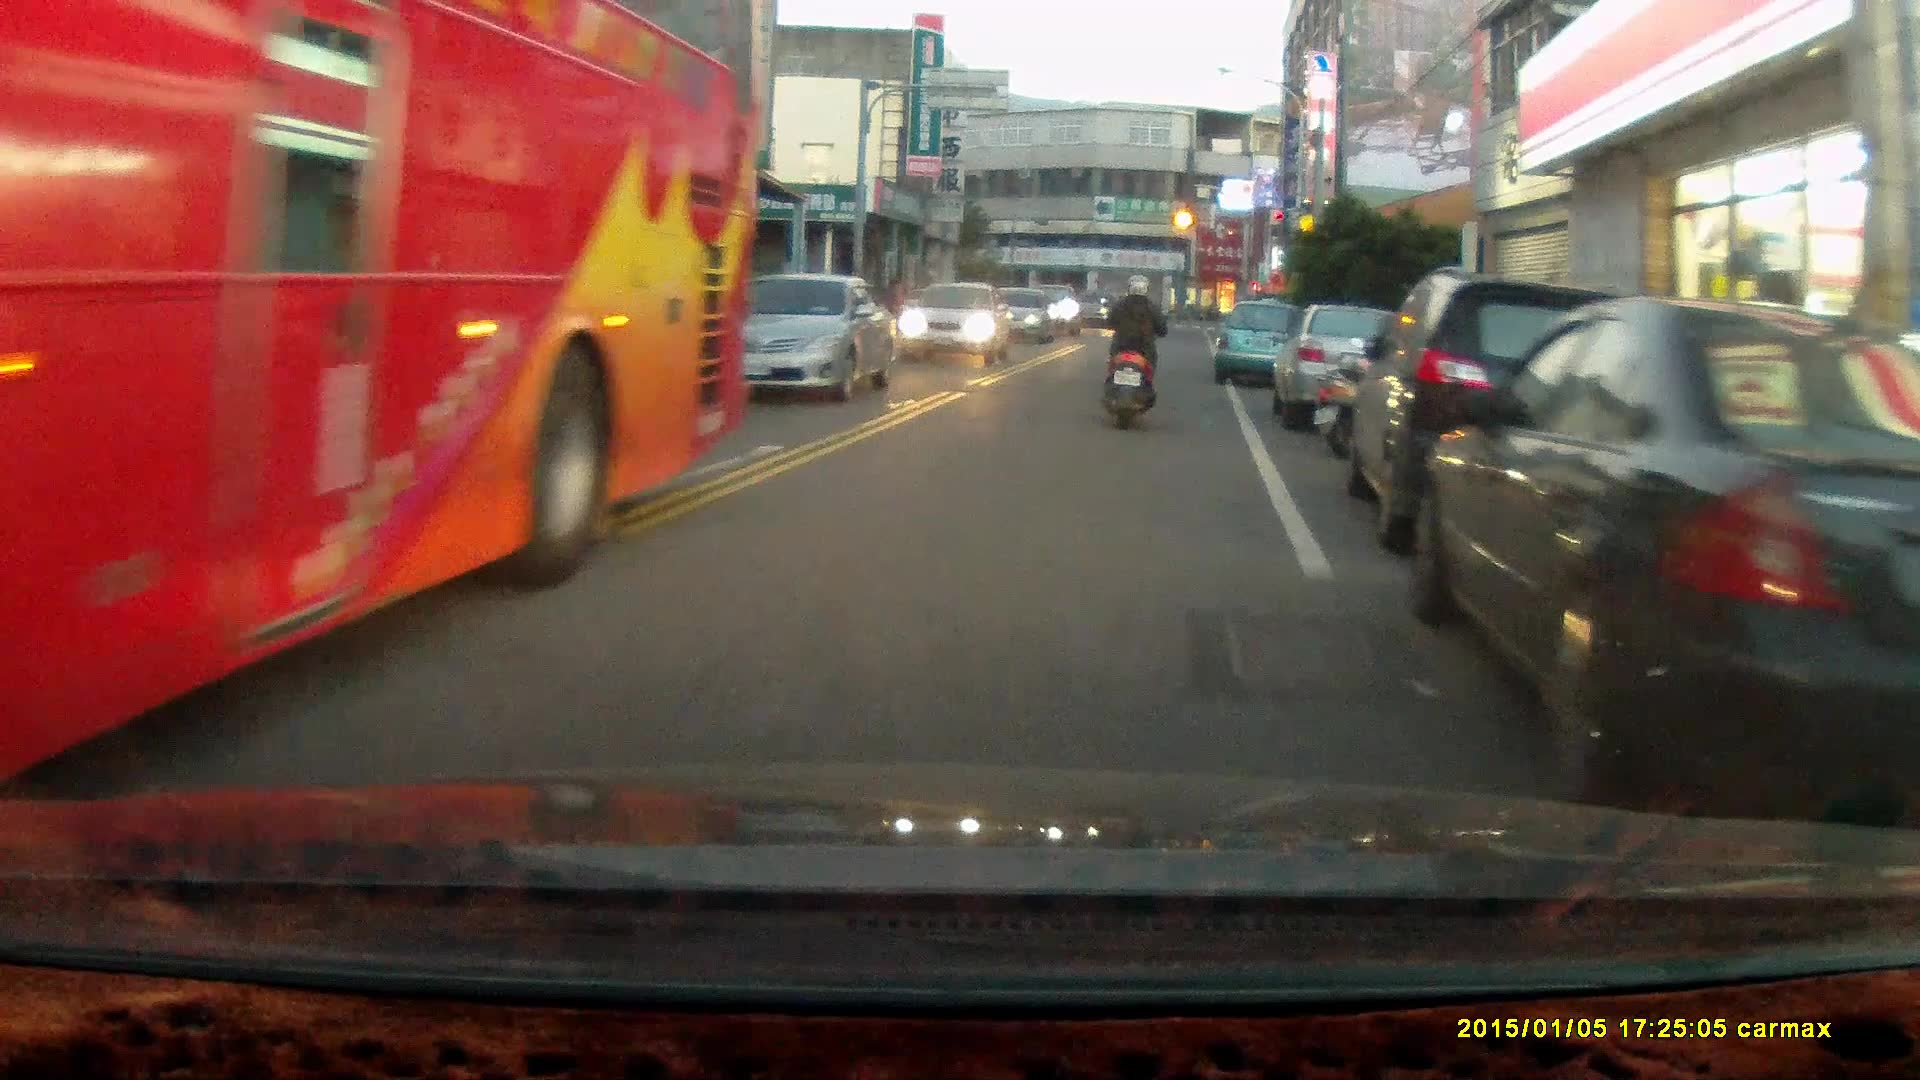rider: (1093, 271, 1166, 429)
vehicle: (1, 9, 758, 778), (1410, 295, 1920, 809), (1336, 264, 1746, 558), (689, 277, 890, 402), (1278, 304, 1450, 435), (898, 281, 1014, 369), (1210, 300, 1305, 387)
